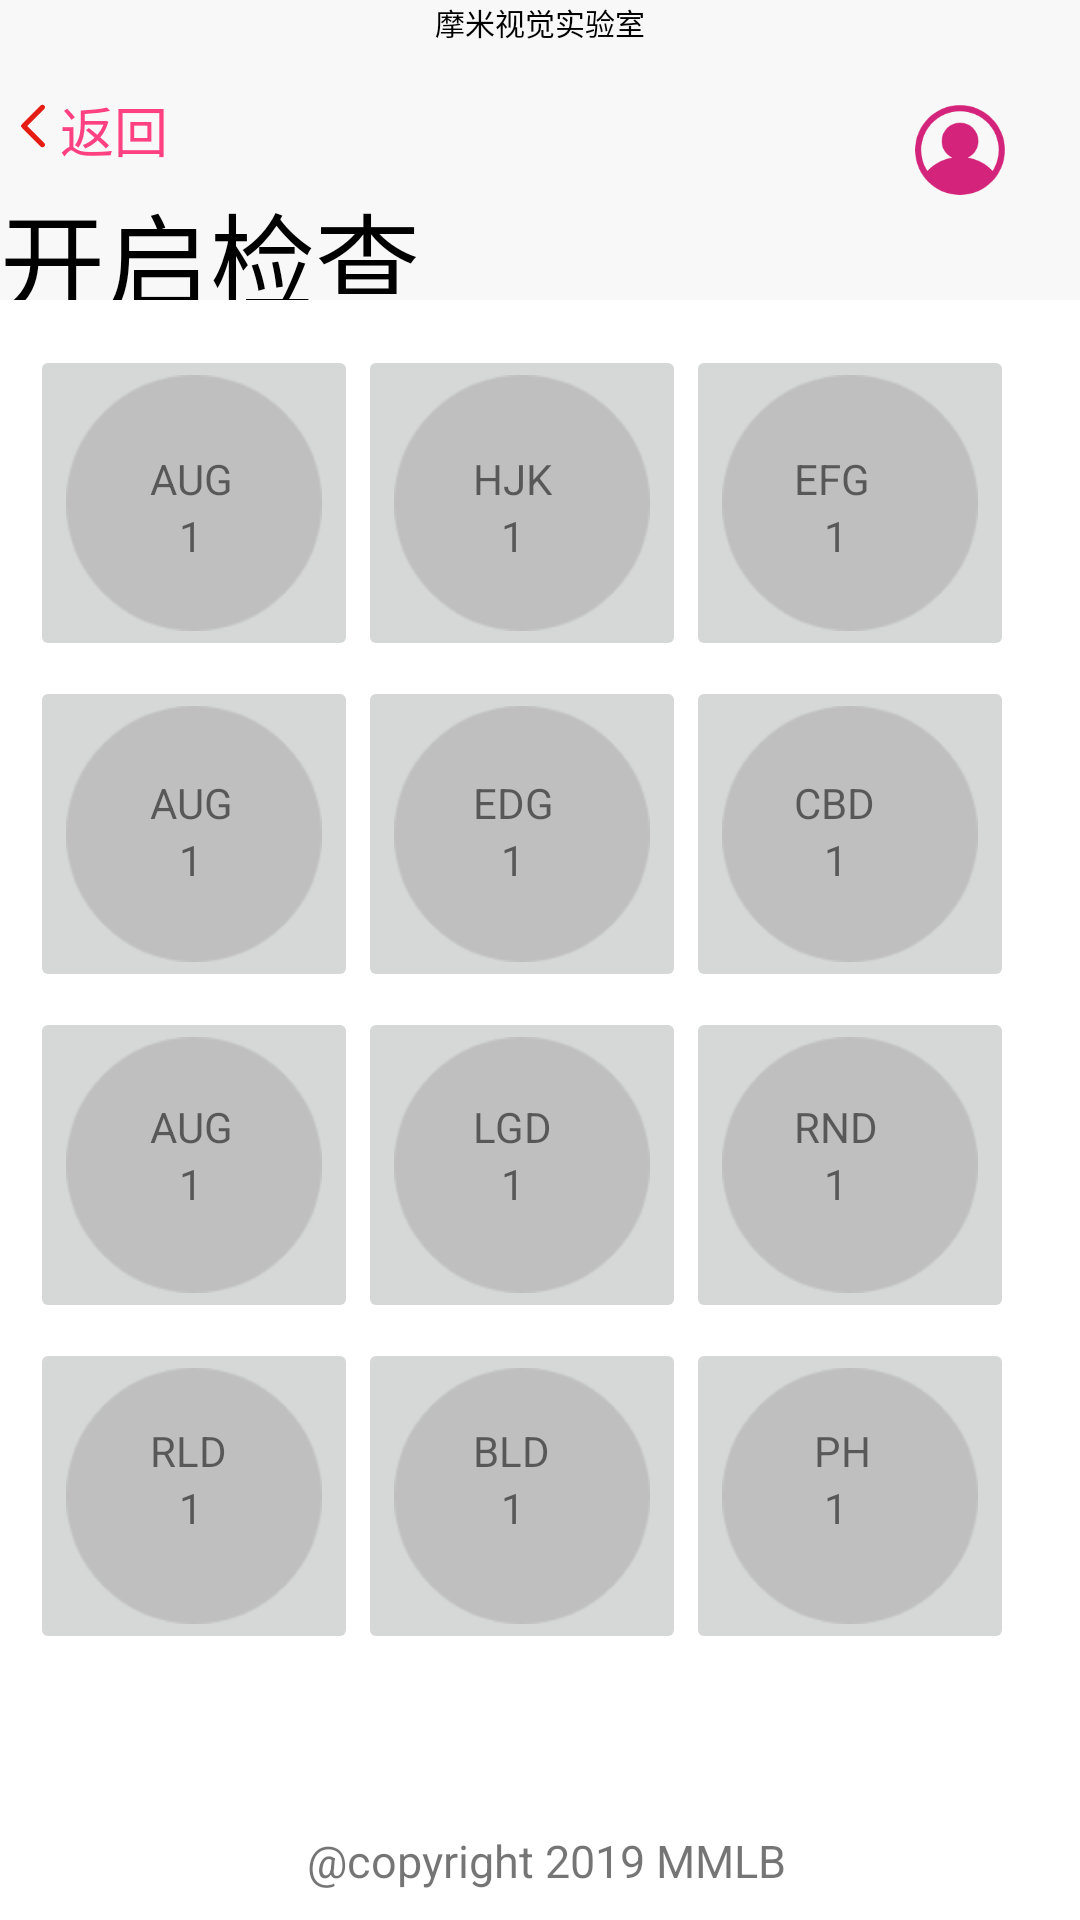

Locate icon controls on the screen. Image size 1080×1920, boxes as (x1, y1, x2, y2).
head: (915, 105, 1005, 195)
pointleft: (21, 104, 45, 148)
